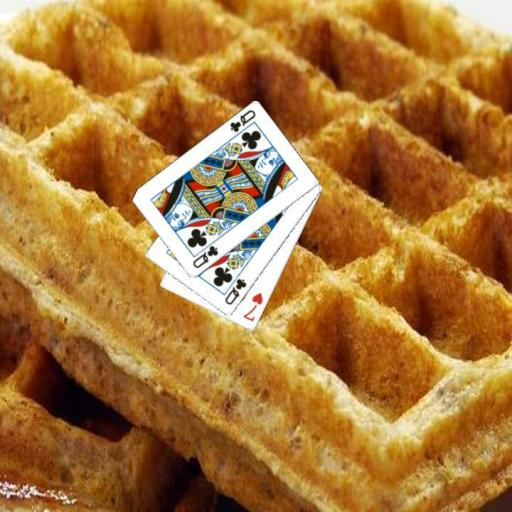7H: (241, 290, 265, 324)
QC: (221, 275, 248, 307), (189, 243, 220, 270), (227, 107, 257, 134)
